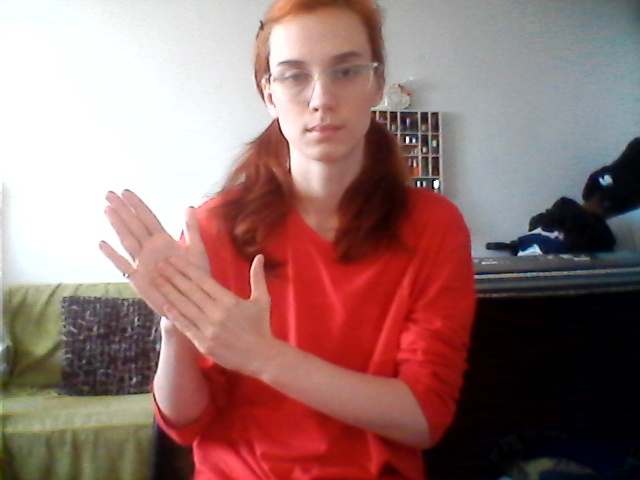m: (90, 177, 276, 377)
